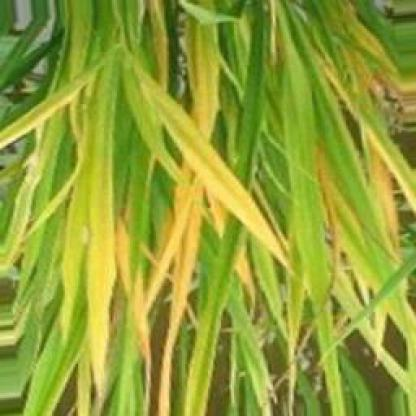Tungro: (120, 66, 302, 284), (141, 26, 235, 416), (76, 9, 123, 404), (343, 102, 416, 284), (298, 144, 357, 279), (3, 101, 68, 152)
